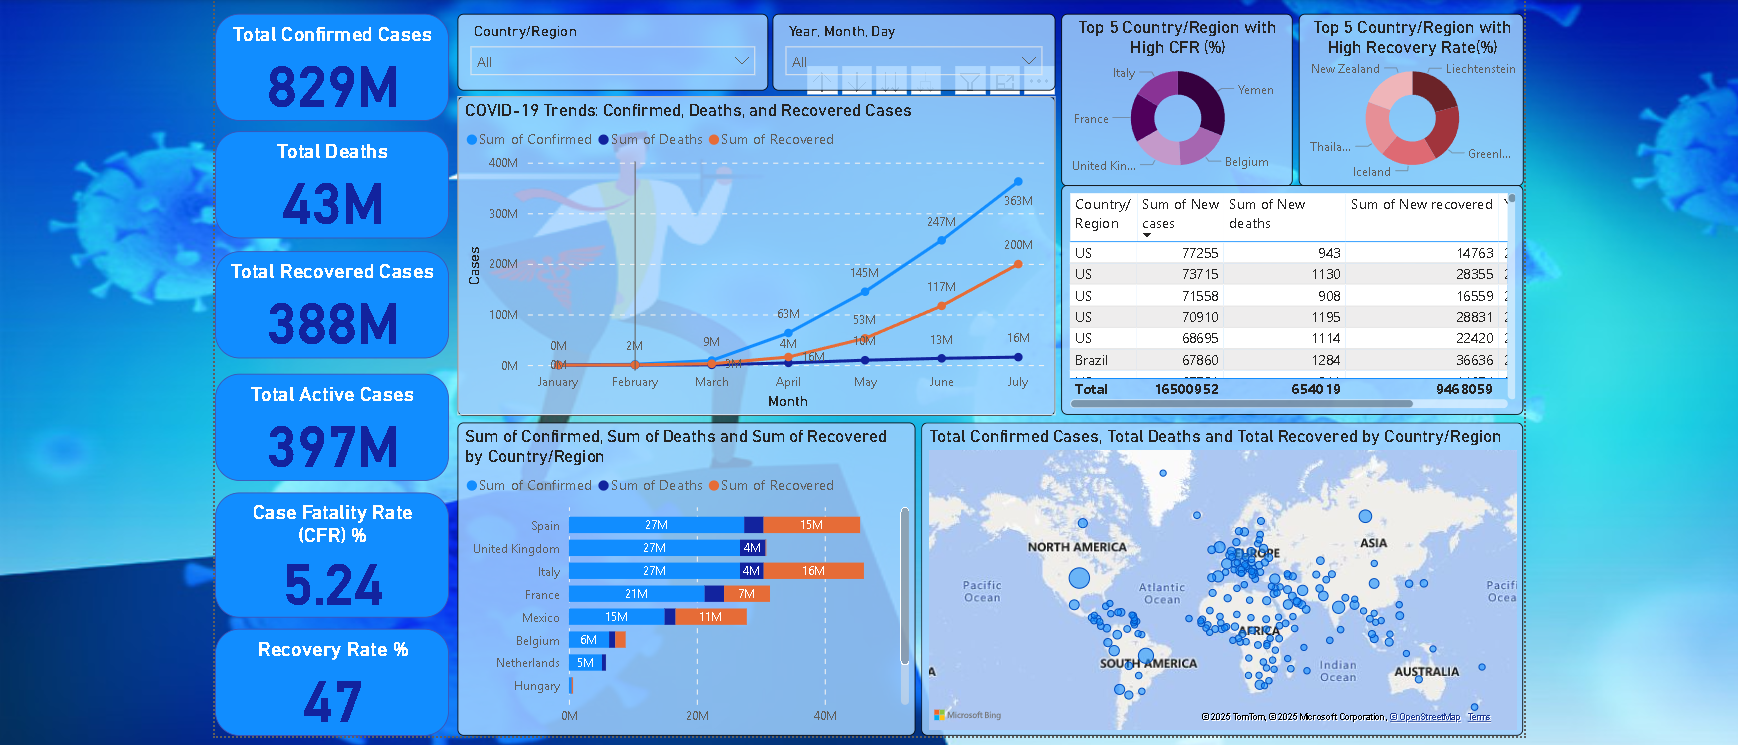

This screenshot's page, from the dashboard's own definition file:
{"tool":"powerbi","page":{"name":"Dashboard ","canvas":[1280,720],"ordinal":1},"visuals":[{"type":"card","title":"Total Confirmed Cases","fields":{"Values":["full_grouped.Total Confirmed Cases"]},"box":[0,13,229,105.1],"z":0},{"type":"card","title":"Total Deaths","fields":{"Values":["full_grouped.Total Deaths"]},"box":[0,128.2,229,105.1],"z":1000},{"type":"card","title":"Total Recovered Cases","fields":{"Values":["full_grouped.Total Recovered"]},"box":[0,246.2,229,105.1],"z":2000},{"type":"card","title":"Total Active Cases","fields":{"Values":["full_grouped.Total Active Cases"]},"box":[0,365.8,229,105.1],"z":3000},{"type":"card","title":"Case Fatality Rate (CFR) %","fields":{"Values":["full_grouped.Fatality Rate(CFR)"]},"box":[0,482.4,229,122.4],"z":4000},{"type":"card","title":"Recovery Rate %","fields":{"Values":["full_grouped.Recovery Rate"]},"box":[0,614.9,229,105.1],"z":5000},{"type":"lineChart","title":"COVID-19  Trends: Confirmed, Deaths, and Recovered Cases","fields":{"Category":["full_grouped.Date.Variation.Date Hierarchy.Year","full_grouped.Date.Variation.Date Hierarchy.Month","full_grouped.Date.Variation.Date Hierarchy.Day"],"Y":["Sum(full_grouped.Confirmed)","Sum(full_grouped.Deaths)","Sum(full_grouped.Recovered)"]},"box":[237.6,93.6,584.6,312.5],"z":6000},{"type":"slicer","fields":{"Values":["full_grouped.Date.Variation.Date Hierarchy.Year","full_grouped.Date.Variation.Date Hierarchy.Month","full_grouped.Date.Variation.Date Hierarchy.Day"]},"box":[545.8,13,276.5,74.9],"z":7000},{"type":"barChart","fields":{"Category":["full_grouped.Country/Region"],"Y":["Sum(full_grouped.Confirmed)","Sum(full_grouped.Deaths)","Sum(full_grouped.Recovered)"]},"box":[237.6,413.3,447.8,306.7],"z":8000},{"type":"donutChart","title":"Top 5 Country/Region with High CFR (%)","fields":{"Category":["full_grouped.Country/Region"],"Y":["full_grouped.Fatality Rate(CFR)"]},"box":[828,13,226.1,168.5],"z":9000},{"type":"slicer","fields":{"Values":["full_grouped.Country/Region"]},"box":[237.6,13,303.8,74.9],"z":10000},{"type":"donutChart","title":"Top 5 Country/Region with High Recovery Rate(%)","fields":{"Category":["full_grouped.Country/Region"],"Y":["full_grouped.Recovery Rate"]},"box":[1059.8,13,220.3,168.5],"z":11000},{"type":"tableEx","fields":{"Values":["full_grouped.Country/Region","Sum(full_grouped.New cases)","Sum(full_grouped.New deaths)","Sum(full_grouped.New recovered)","full_grouped.Date.Variation.Date Hierarchy.Year","full_grouped.Date.Variation.Date Hierarchy.Month","full_grouped.Date.Variation.Date Hierarchy.Day"]},"box":[828,181.4,452.2,224.6],"z":12000},{"type":"map","fields":{"Category":["full_grouped.Country/Region"],"Size":["full_grouped.Total Confirmed Cases"]},"box":[691.2,413.3,589,306.7],"z":13000}]}

Visuals, with their boxes in screenshot pixels (x1, y1, x2, y2):
"Total Confirmed Cases" card: <box>208,13,442,121</box>
"Total Deaths" card: <box>208,131,442,239</box>
"Total Recovered Cases" card: <box>208,252,442,359</box>
"Total Active Cases" card: <box>208,374,442,482</box>
"Case Fatality Rate (CFR) %" card: <box>208,493,442,619</box>
"Recovery Rate %" card: <box>208,629,442,736</box>
"COVID-19  Trends: Confirmed, Deaths, and Recovered Cases" lineChart: <box>451,96,1049,415</box>
slicer - full_grouped.Date.Variation.Date Hierarchy.Year x full_grouped.Date.Variation.Date Hierarchy.Month: <box>766,13,1049,90</box>
barChart - full_grouped.Country/Region x Sum(full_grouped.Confirmed): <box>451,423,909,736</box>
"Top 5 Country/Region with High CFR (%)" donutChart: <box>1055,13,1286,186</box>
slicer - full_grouped.Country/Region: <box>451,13,762,90</box>
"Top 5 Country/Region with High Recovery Rate(%)" donutChart: <box>1292,13,1518,186</box>
tableEx - full_grouped.Country/Region x Sum(full_grouped.New cases): <box>1055,186,1518,415</box>
map - full_grouped.Country/Region x full_grouped.Total Confirmed Cases: <box>915,423,1518,736</box>
